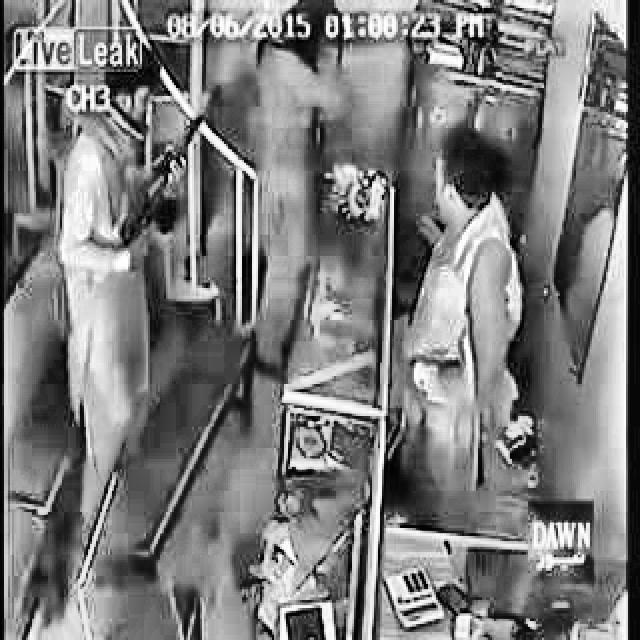robbery: (64, 47, 230, 531)
